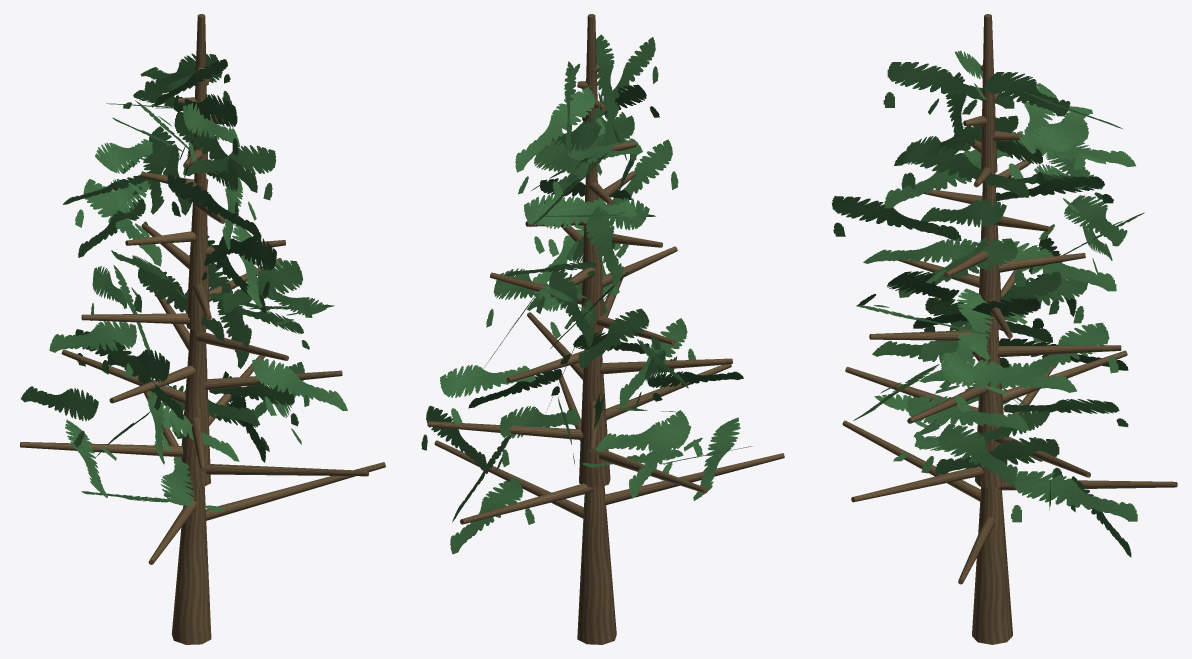
The picture shows the model from 3 angles, left to right: view 1: azimuth 30°, elevation 25°; view 2: azimuth 150°, elevation 25°; view 3: azimuth 270°, elevation 25°; orthographic projection.
Visible parts, largest first — view 1: pine-needle, pine-bark; view 2: pine-needle, pine-bark; view 3: pine-needle, pine-bark.
Part boxes in pixels (left/top/right/bottom): pine-needle: left=21, top=53, right=347, bottom=511; pine-bark: left=20, top=14, right=385, bottom=644; pine-needle: left=421, top=34, right=752, bottom=554; pine-bark: left=427, top=14, right=784, bottom=644; pine-needle: left=831, top=50, right=1144, bottom=557; pine-bark: left=842, top=14, right=1177, bottom=644.
Bounding box in the file's own units: 5.5 × 10.01 × 5.29.
Materials: 2 (2 with a texture image).
